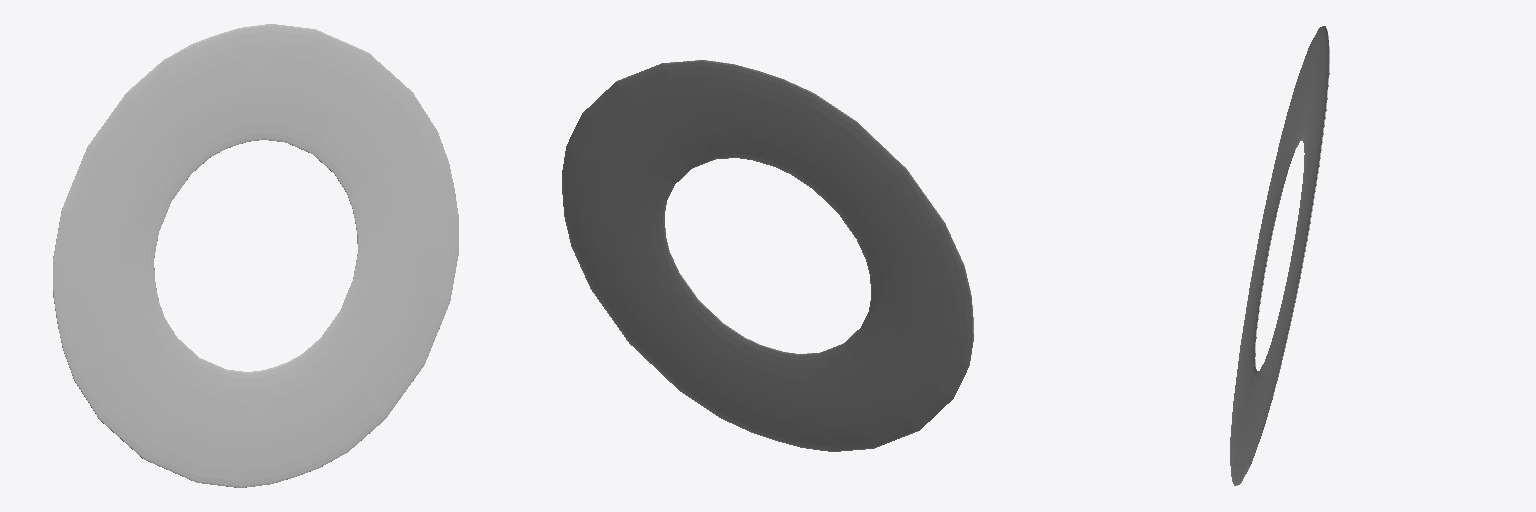
File: uranusRing.obj
3 views of the same model, side by side, from view 1: azimuth 30°, elevation 25°; view 2: azimuth 150°, elevation 25°; view 3: azimuth 270°, elevation 25° (orthographic).
Parts seen in each view (by area): view 1: SurfTorus; view 2: SurfTorus; view 3: SurfTorus.
Part boxes in pixels (left/top/right/bottom): SurfTorus: left=53, top=24, right=458, bottom=487; SurfTorus: left=562, top=60, right=973, bottom=451; SurfTorus: left=1230, top=26, right=1329, bottom=485.
Bounding box in the file's own units: 8.1 × 7.92 × 1.73.